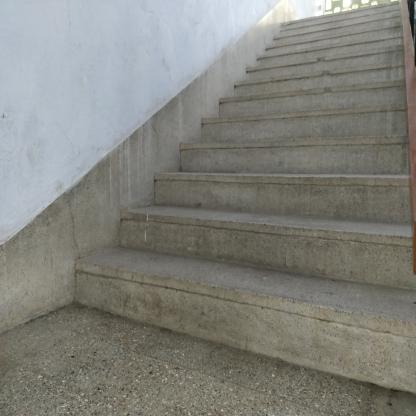stairs: (185, 156, 399, 400)
